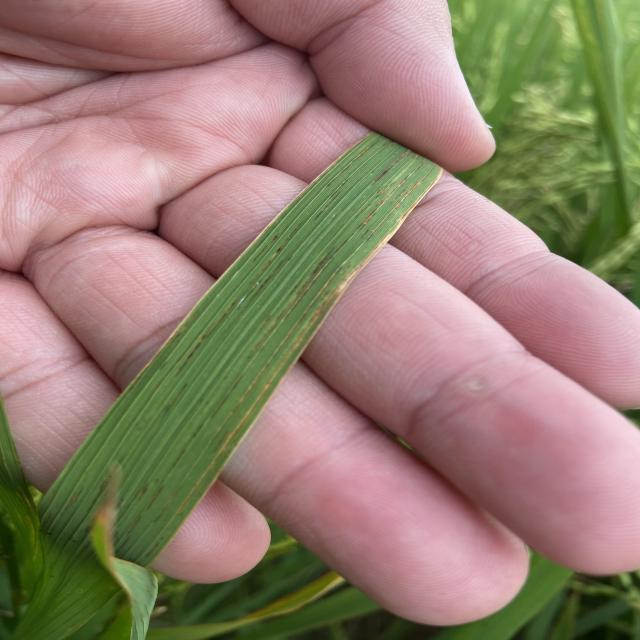Dom soc vi khuan: (359, 177, 409, 228), (326, 142, 375, 187), (371, 149, 412, 185), (251, 245, 282, 282)
